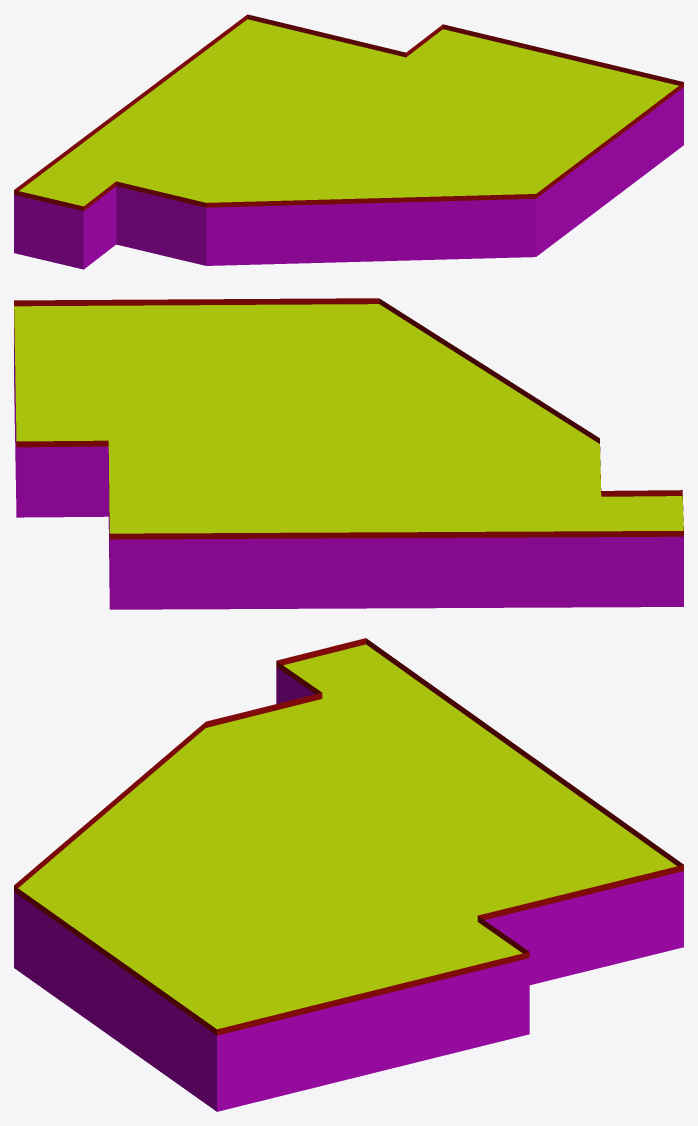
Rendered from bgj_74.glb.
The picture shows the model from 3 angles, top to bottom: view 1: azimuth 30°, elevation 25°; view 2: azimuth 150°, elevation 25°; view 3: azimuth 270°, elevation 25°; orthographic projection. The views are drawn at different scales.
Visible parts, largest first — view 1: bgj_74; view 2: bgj_74; view 3: bgj_74.
Boxes of the visible parts, bbox=[...] form: bgj_74: bbox=[14, 14, 683, 269]; bgj_74: bbox=[14, 298, 683, 609]; bgj_74: bbox=[14, 638, 683, 1111].
Size of the model in its own units: 46.17 by 4.54 by 33.41.
